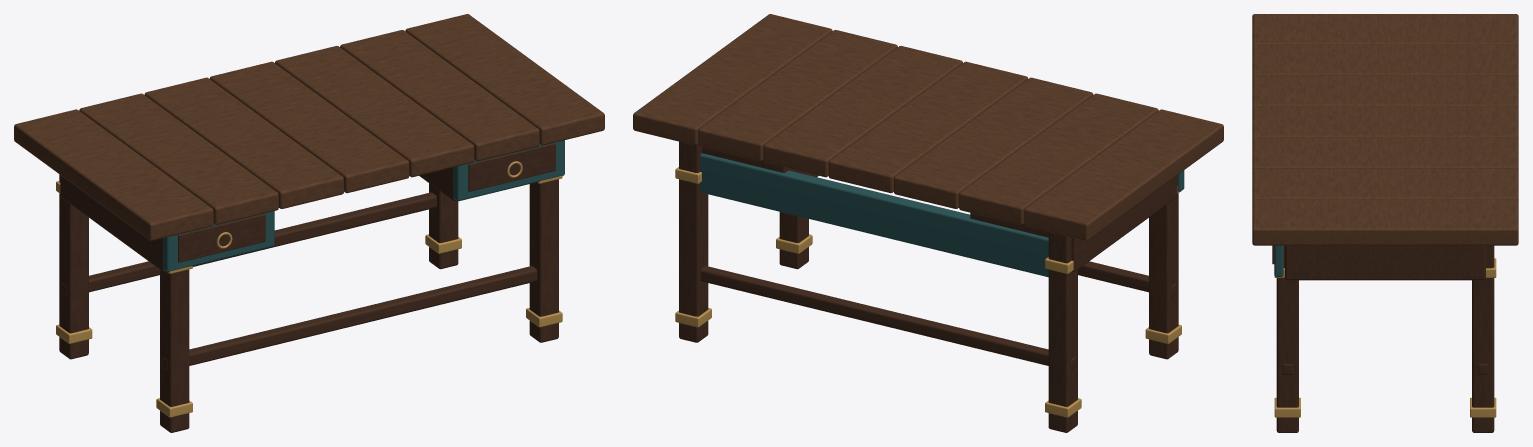
3 views of the same model, side by side, from view 1: azimuth 30°, elevation 25°; view 2: azimuth 150°, elevation 25°; view 3: azimuth 270°, elevation 25° (orthographic). The views are drawn at different scales.
Parts seen in each view (by area): view 1: Individual walnut desktop plank, Individual walnut desktop plank.006, Individual walnut desktop plank.003, Individual walnut desktop plank.005, Individual walnut desktop plank.001, Individual walnut desktop plank.004, Individual walnut desktop plank.002, Cross brace, Tapered leg, Tapered leg.002, Tapered leg.001, Cross brace.001 (+7 smaller); view 2: Central modesty rail, Individual walnut desktop plank, Individual walnut desktop plank.006, Individual walnut desktop plank.003, Individual walnut desktop plank.005, Individual walnut desktop plank.001, Individual walnut desktop plank.004, Individual walnut desktop plank.002, Cross brace.001, Tapered leg.001, Tapered leg.003, Tapered leg (+4 smaller); view 3: Individual walnut desktop plank.006, Individual walnut desktop plank.005, Individual walnut desktop plank.003, Individual walnut desktop plank.004, Individual walnut desktop plank.002, Individual walnut desktop plank, Individual walnut desktop plank.001, Drawer box.001, Tapered leg.003, Tapered leg.002, Leg collar.004, Leg collar.006 (+1 smaller).
Part boxes in pixels (x1=…): Individual walnut desktop plank: x1=14, y1=109, x2=213, y2=240; Individual walnut desktop plank.006: x1=405, y1=14, x2=604, y2=145; Individual walnut desktop plank.003: x1=209, y1=61, x2=409, y2=193; Individual walnut desktop plank.005: x1=340, y1=30, x2=539, y2=161; Individual walnut desktop plank.001: x1=79, y1=93, x2=278, y2=224; Individual walnut desktop plank.004: x1=275, y1=46, x2=474, y2=177; Individual walnut desktop plank.002: x1=144, y1=77, x2=343, y2=208; Cross brace: x1=162, y1=266, x2=537, y2=370; Tapered leg: x1=160, y1=269, x2=189, y2=432; Tapered leg.002: x1=529, y1=179, x2=558, y2=342; Tapered leg.001: x1=59, y1=174, x2=88, y2=359; Cross brace.001: x1=61, y1=192, x2=436, y2=296; Central modesty rail: x1=700, y1=153, x2=1048, y2=277; Individual walnut desktop plank: x1=1024, y1=109, x2=1223, y2=240; Individual walnut desktop plank.006: x1=633, y1=14, x2=832, y2=145; Individual walnut desktop plank.003: x1=828, y1=61, x2=1028, y2=193; Individual walnut desktop plank.005: x1=698, y1=30, x2=897, y2=161; Individual walnut desktop plank.001: x1=959, y1=93, x2=1158, y2=224; Individual walnut desktop plank.004: x1=763, y1=46, x2=962, y2=177; Individual walnut desktop plank.002: x1=894, y1=77, x2=1093, y2=208; Cross brace.001: x1=700, y1=266, x2=1075, y2=370; Tapered leg.001: x1=1048, y1=232, x2=1077, y2=432; Tapered leg.003: x1=679, y1=141, x2=708, y2=342; Tapered leg: x1=1149, y1=193, x2=1178, y2=359; Individual walnut desktop plank.006: x1=1252, y1=199, x2=1518, y2=245; Individual walnut desktop plank.005: x1=1252, y1=168, x2=1518, y2=200; Individual walnut desktop plank.003: x1=1252, y1=106, x2=1518, y2=138; Individual walnut desktop plank.004: x1=1252, y1=137, x2=1518, y2=169; Individual walnut desktop plank.002: x1=1252, y1=75, x2=1518, y2=107; Individual walnut desktop plank: x1=1252, y1=14, x2=1518, y2=46; Individual walnut desktop plank.001: x1=1252, y1=45, x2=1518, y2=77; Drawer box.001: x1=1285, y1=245, x2=1485, y2=280; Tapered leg.003: x1=1472, y1=245, x2=1494, y2=432; Tapered leg.002: x1=1276, y1=245, x2=1298, y2=432; Leg collar.004: x1=1274, y1=397, x2=1300, y2=417; Leg collar.006: x1=1470, y1=397, x2=1496, y2=417.
Bounding box in the file's own units: 1.72 × 0.8225 × 0.9.
Materials: 4 (2 with a texture image).
